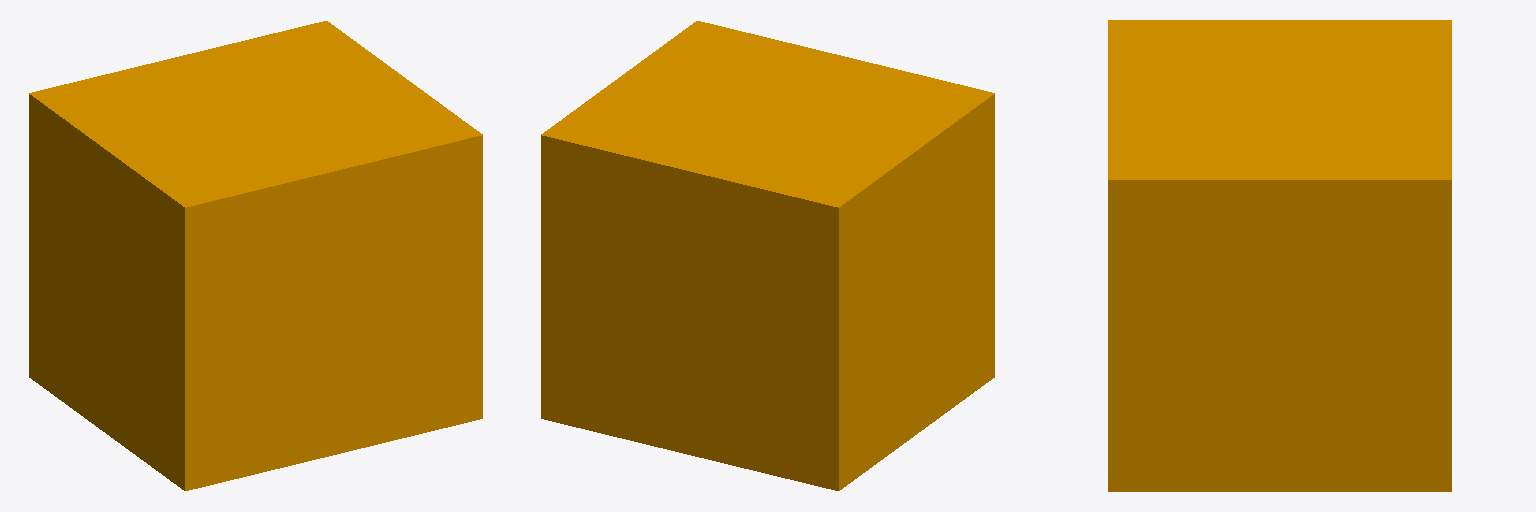
URDF robot description (object):
<robot name="object">
  <link name="object">
    <visual>
      <origin xyz="0 0 0" />
      <geometry>
        <box size="0.08800000000000002 0.08000000000000002 0.08" />
      </geometry>
    </visual>

    <collision>
      <origin xyz="0 0 0" />
      <geometry>
        <box size="0.08800000000000002 0.08000000000000002 0.08" />
      </geometry>
    </collision>

    <inertial>
      <mass value="0.05" />
      <inertia ixx="0.0001" ixy="0.0" ixz="0.0" iyy="0.0001" iyz="0.0" izz="0.0001" />
    </inertial>
  </link>
</robot>

--- Render facts (derived) ---
The picture shows the robot from 3 angles, left to right: view 1: azimuth 30°, elevation 25°; view 2: azimuth 150°, elevation 25°; view 3: azimuth 270°, elevation 25°; orthographic projection.
Model object with 1 links and 0 joints (none), rooted at object, posed every joint at zero.
Links seen in each view (by area): view 1: object; view 2: object; view 3: object.
Link boxes in pixels (box(x1,y1,x2,y2)): object: box(29, 21, 482, 490); object: box(541, 21, 994, 490); object: box(1108, 20, 1451, 491).
Bounding box of the posed robot: 0.088 × 0.08 × 0.08 m (x, y, z).
Geometry: primitives only (box / cylinder / sphere), no mesh files.